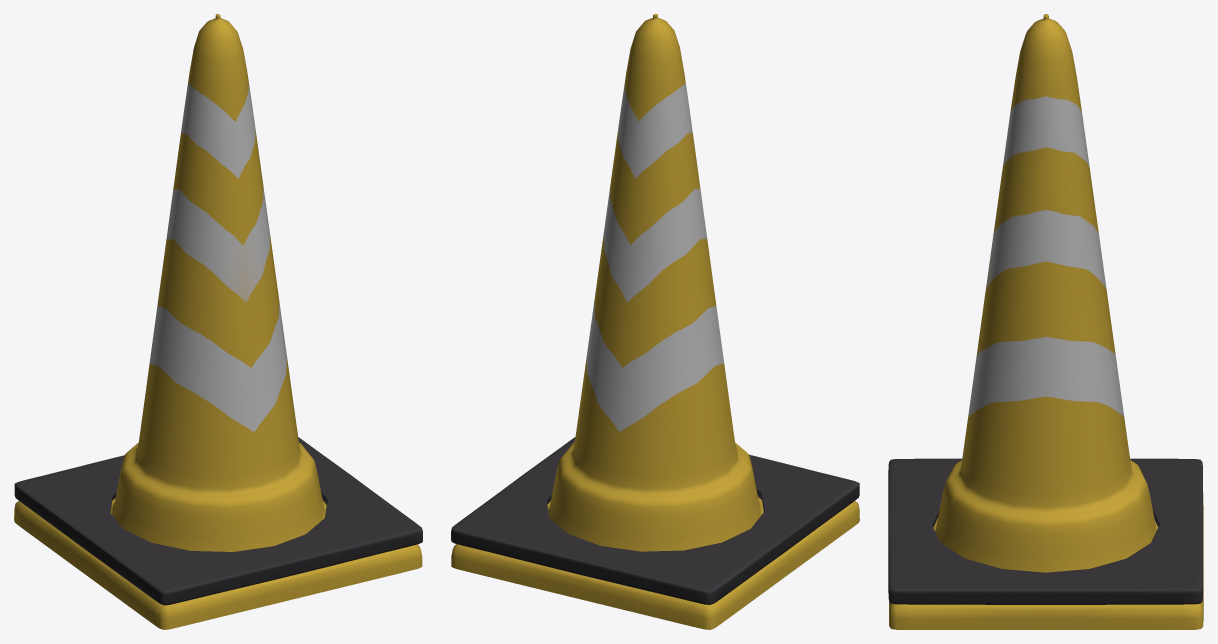
Rendered from ColorCone_Scotch_Yellow.fbx.
The picture shows the model from 3 angles, left to right: view 1: azimuth 30°, elevation 25°; view 2: azimuth 150°, elevation 25°; view 3: azimuth 270°, elevation 25°; orthographic projection. The views are drawn at different scales.
Parts seen in each view (by area): view 1: ColorCone_Scotch_Yellow; view 2: ColorCone_Scotch_Yellow; view 3: ColorCone_Scotch_Yellow.
Part boxes in pixels (bbox=[...]): ColorCone_Scotch_Yellow: bbox=[14, 14, 422, 629]; ColorCone_Scotch_Yellow: bbox=[451, 14, 859, 629]; ColorCone_Scotch_Yellow: bbox=[888, 14, 1203, 629].
Bounding box in the file's own units: 38.04 × 38.06 × 73.14.
1 material, 1 textured.
